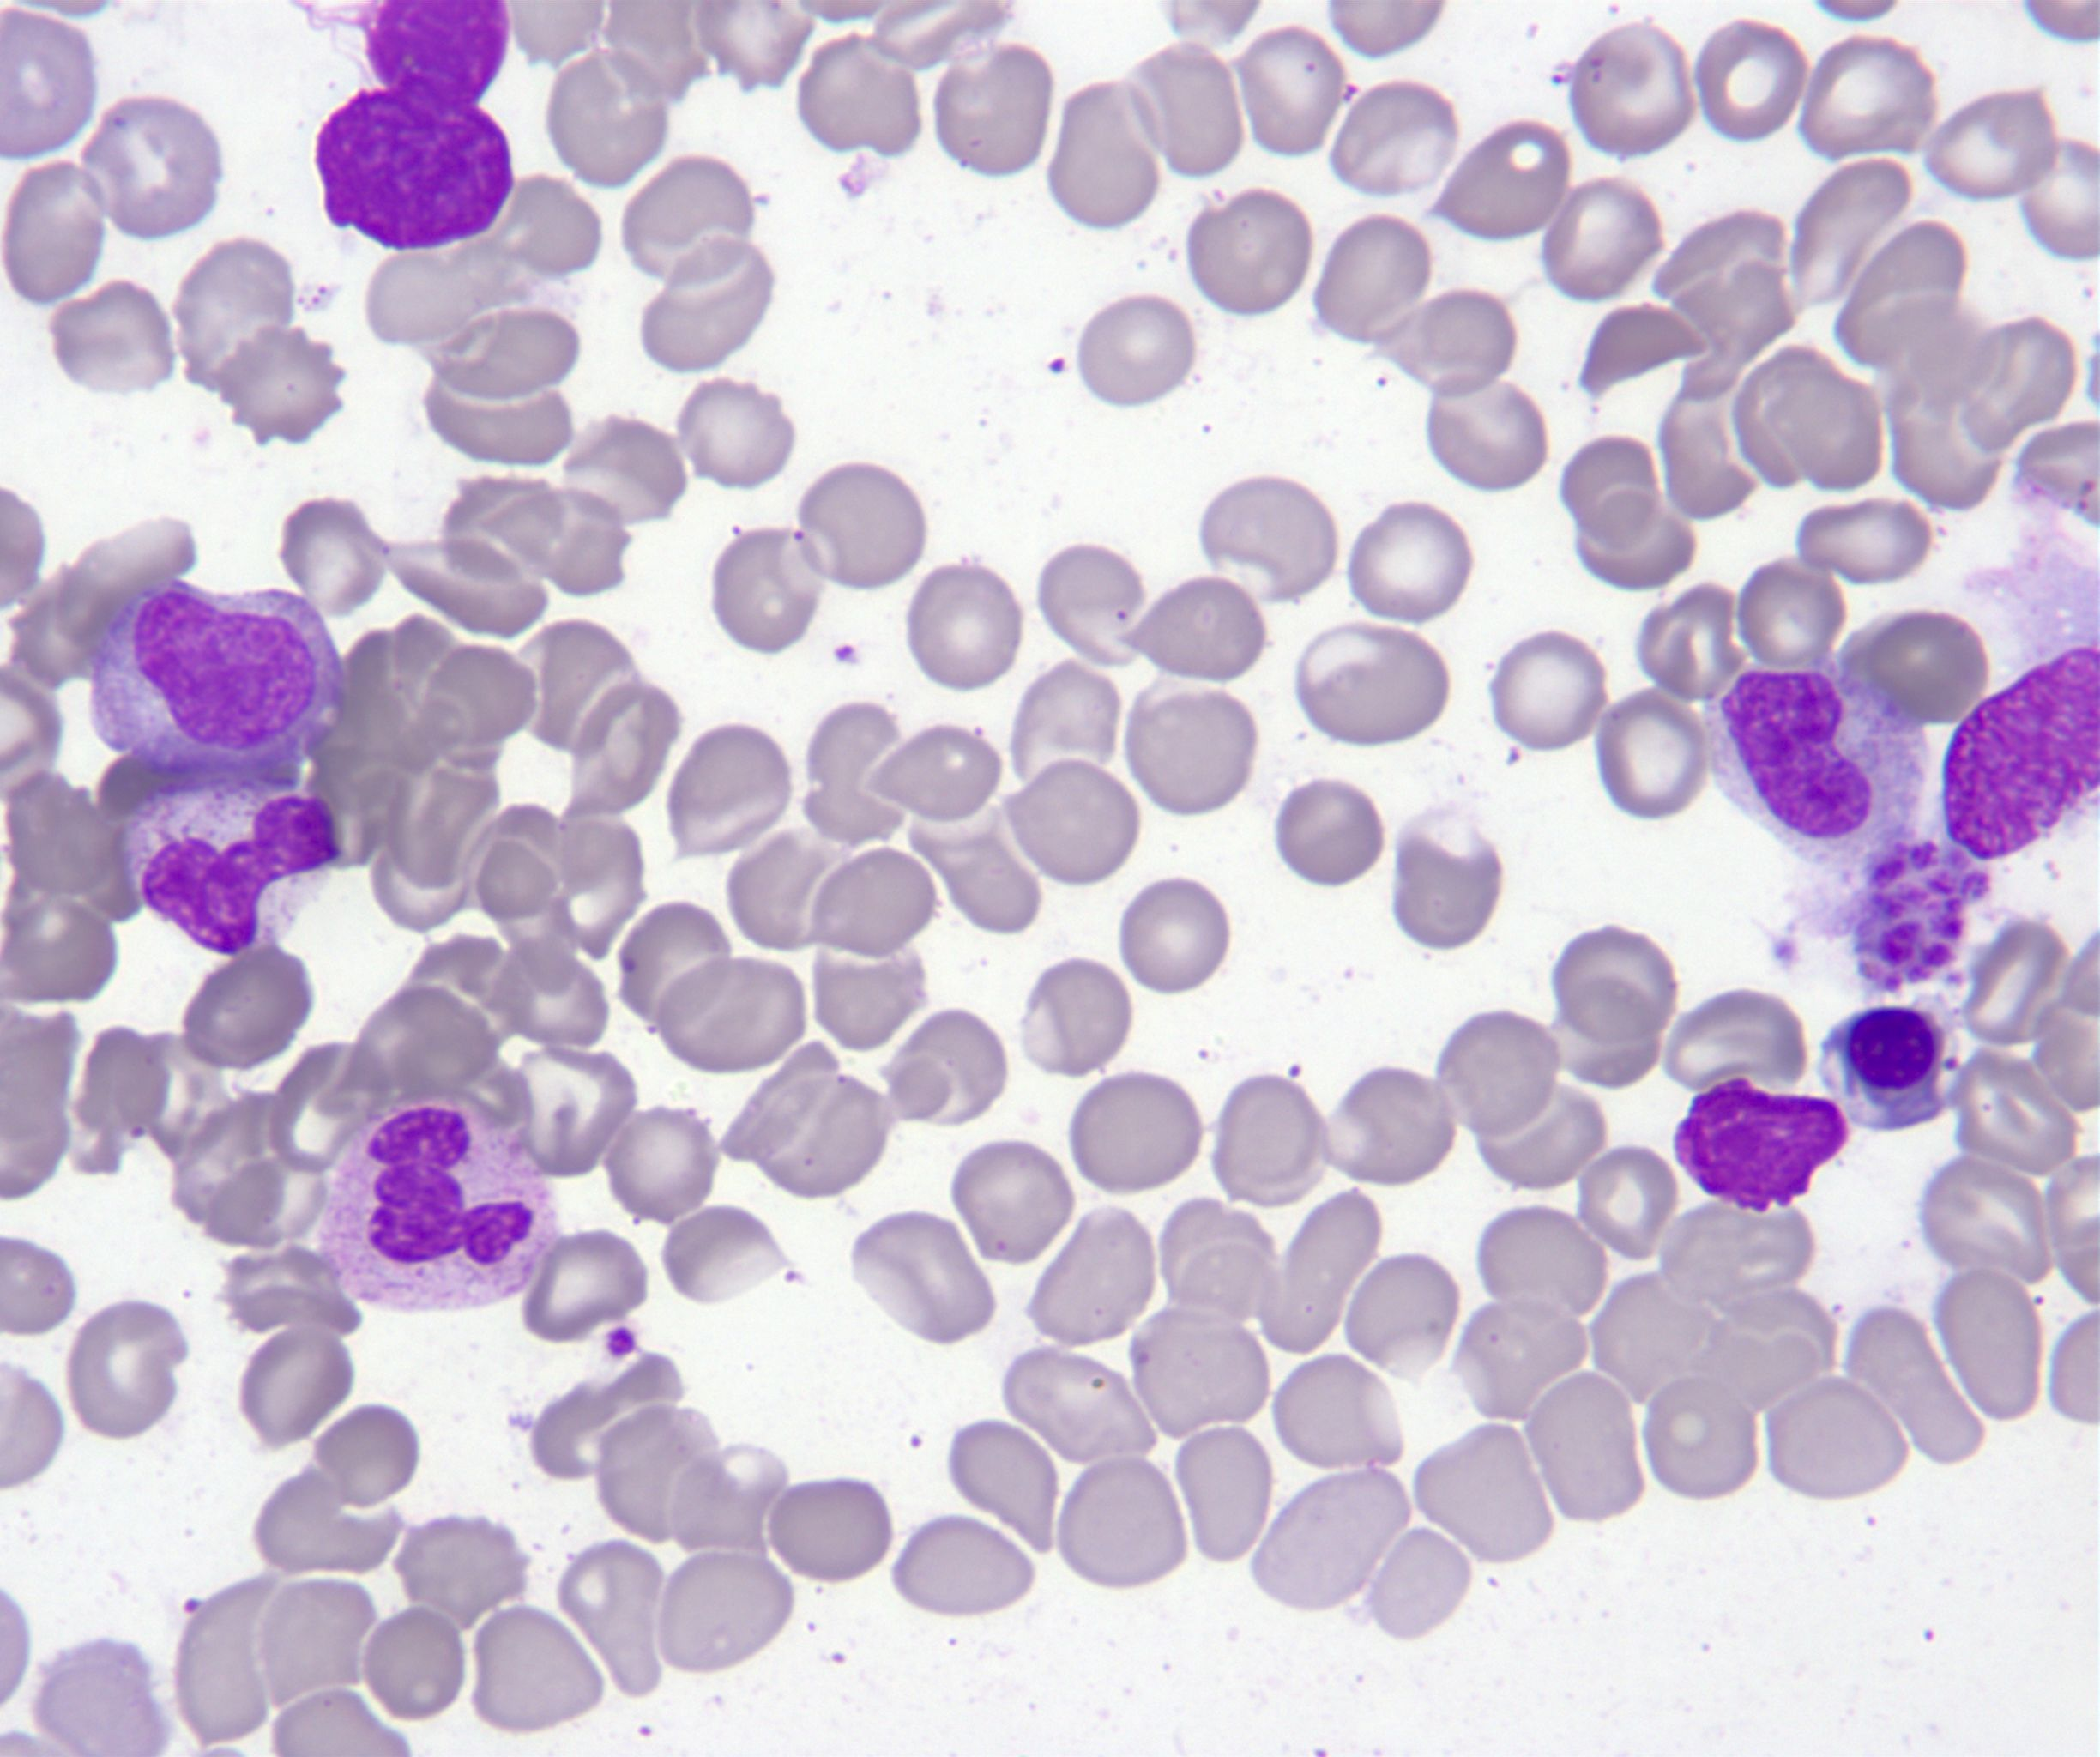23: (1817, 1005, 1960, 1131)
3: (89, 579, 345, 771)
4: (1706, 649, 1926, 876)
5: (117, 776, 345, 954)
6: (317, 1099, 556, 1312)
x: (1943, 647, 2100, 860), (316, 91, 513, 251), (1852, 831, 1992, 998), (1676, 1080, 1847, 1211), (361, 2, 511, 103)
